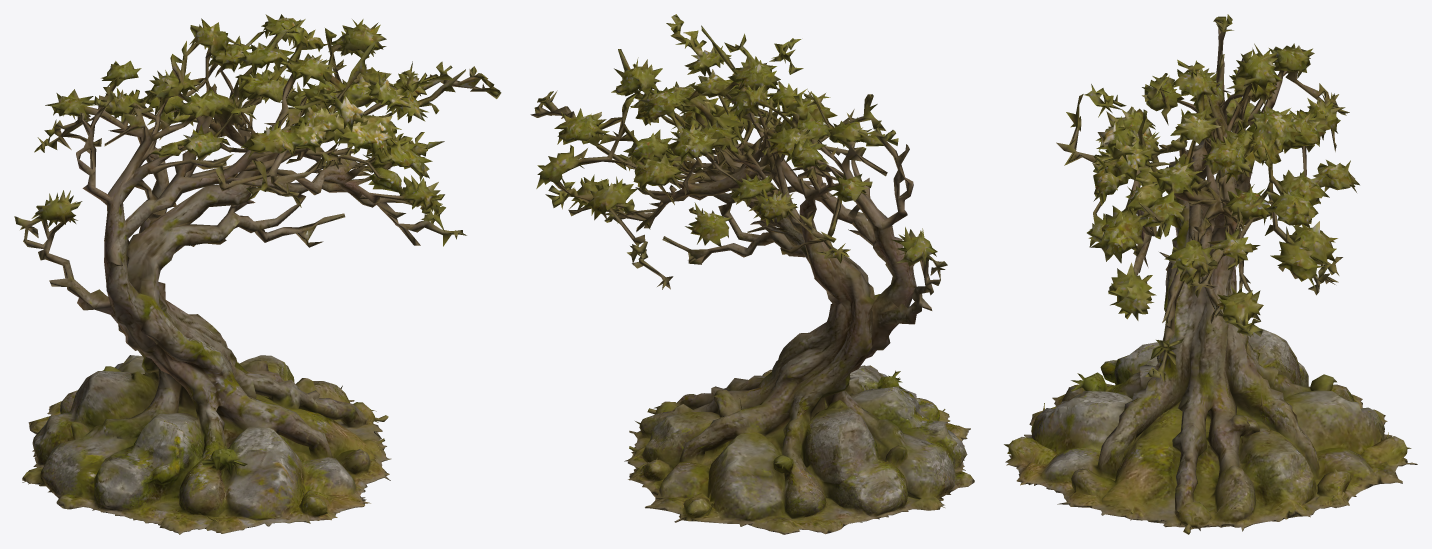
The model's file is hawthorn_tree_tripo.glb.
3 renders of one model, left to right at view 1: azimuth 30°, elevation 25°; view 2: azimuth 150°, elevation 25°; view 3: azimuth 270°, elevation 25°, orthographic. The views are drawn at different scales.
Visible parts, largest first — view 1: tripo_node_3cf7d8c7-9d2f-4d03-950c-52839e92a90d; view 2: tripo_node_3cf7d8c7-9d2f-4d03-950c-52839e92a90d; view 3: tripo_node_3cf7d8c7-9d2f-4d03-950c-52839e92a90d.
Part boxes in pixels (bbox=[...]): tripo_node_3cf7d8c7-9d2f-4d03-950c-52839e92a90d: bbox=[14, 14, 501, 534]; tripo_node_3cf7d8c7-9d2f-4d03-950c-52839e92a90d: bbox=[530, 14, 974, 534]; tripo_node_3cf7d8c7-9d2f-4d03-950c-52839e92a90d: bbox=[1004, 14, 1417, 534].
Bounding box in the file's own units: 1 × 0.8716 × 0.766.
Materials: 1 (1 with a texture image).
